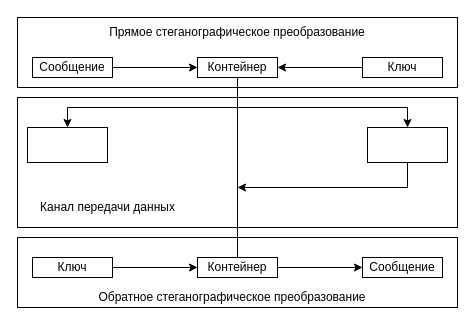
The diagram is 475 pixels wide and 325 high, and some of its shapes have lost their labels. Here are the shapes that lost their labels. From the top down, the centre of each, then its label:
pixel 67 144: Пассивный противник
pixel 407 144: Активный противник
